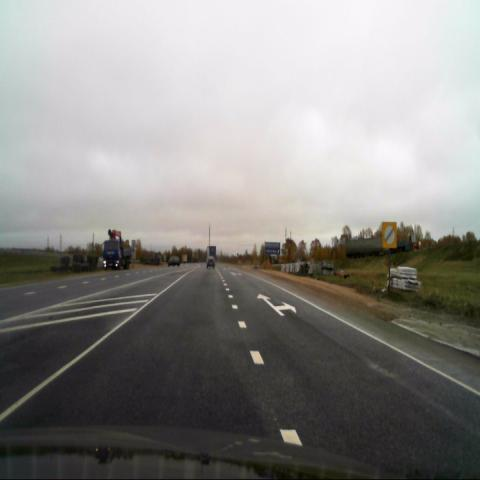3_31: (382, 222, 397, 248)
